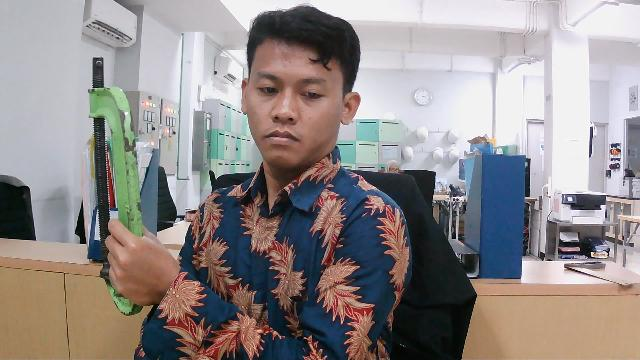tekiro_c_clamp: (76, 48, 159, 322)
